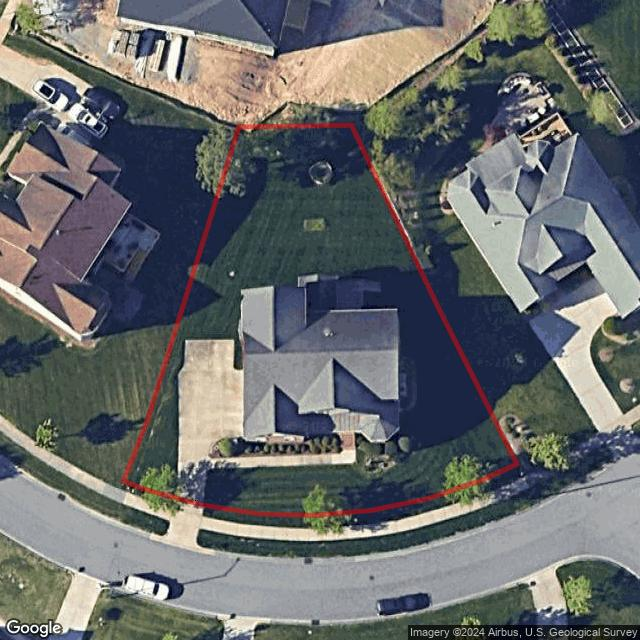Driveway: (175, 339, 244, 504)
Extra-Driveway: (167, 497, 206, 545)
Extra-Lawn: (197, 489, 542, 557), (203, 462, 525, 529), (109, 503, 170, 535), (122, 480, 175, 508)
Extra-Sidewalk: (201, 476, 534, 543), (116, 490, 172, 521)
House: (243, 274, 400, 446)
Lawn: (125, 124, 518, 515)
Other: (213, 433, 341, 458), (354, 431, 411, 475), (399, 357, 417, 412)
Sidewalk: (212, 432, 355, 469)
